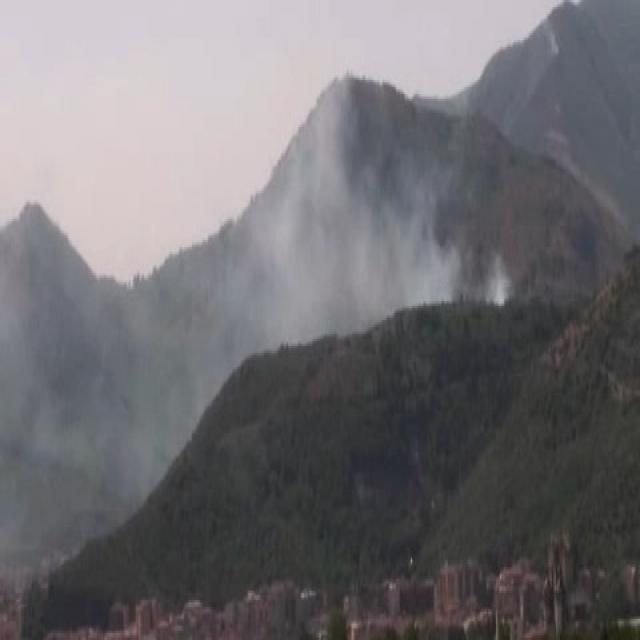smoke: (264, 100, 512, 308), (21, 286, 181, 472)
